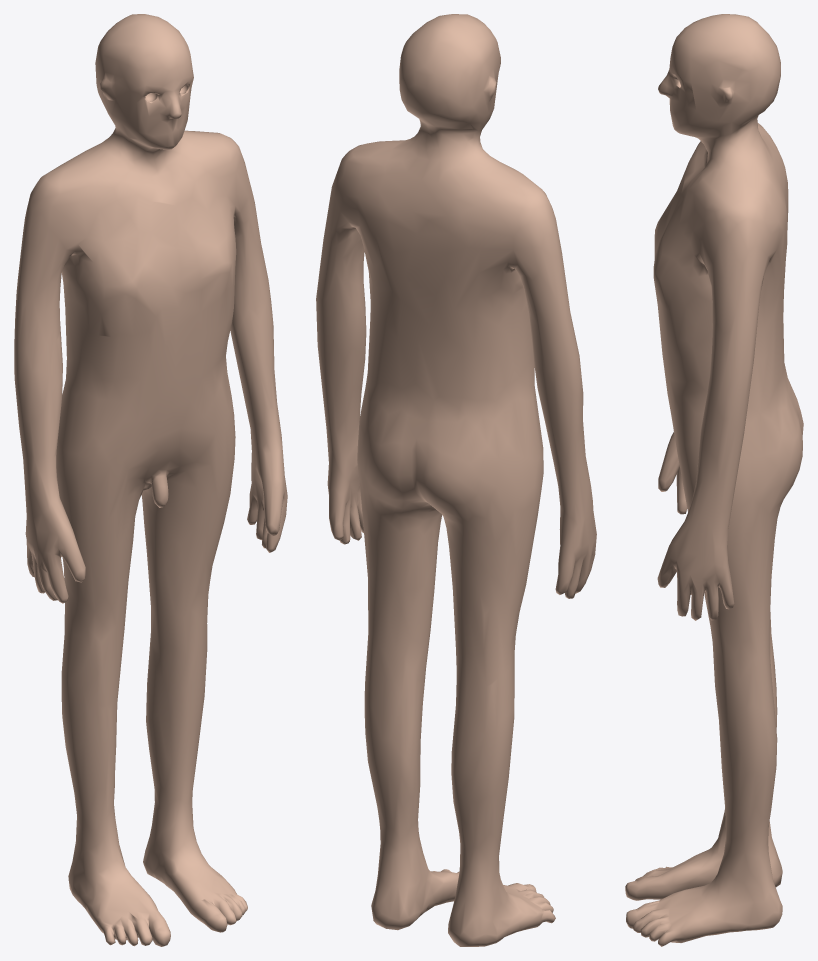
The model's file is pediatric_adolescent_male.surface.LOD2.glb.
3 views of the same model, side by side, from view 1: azimuth 30°, elevation 25°; view 2: azimuth 150°, elevation 25°; view 3: azimuth 270°, elevation 25° (orthographic). The views are drawn at different scales.
Parts seen in each view (by area): view 1: PEDIATRIC.ADOLESCENT.MALE.SURFACE.SKIN; view 2: PEDIATRIC.ADOLESCENT.MALE.SURFACE.SKIN; view 3: PEDIATRIC.ADOLESCENT.MALE.SURFACE.SKIN.
Boxes of the visible parts, <box> form: PEDIATRIC.ADOLESCENT.MALE.SURFACE.SKIN: <box>14,14,287,946</box>; PEDIATRIC.ADOLESCENT.MALE.SURFACE.SKIN: <box>316,14,596,946</box>; PEDIATRIC.ADOLESCENT.MALE.SURFACE.SKIN: <box>625,14,803,946</box>.
Bounding box in the file's own units: 0.5 × 1.67 × 0.3005.
